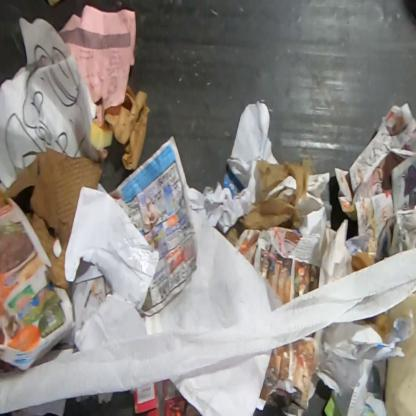cardboard: (0, 180, 77, 372), (5, 146, 105, 290), (104, 84, 150, 171), (129, 378, 189, 415)
